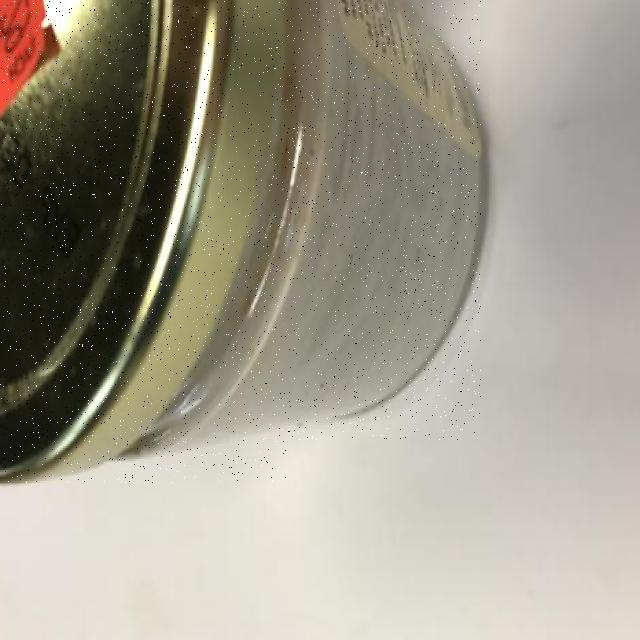glass: (163, 0, 481, 439)
metal: (0, 1, 287, 482)
